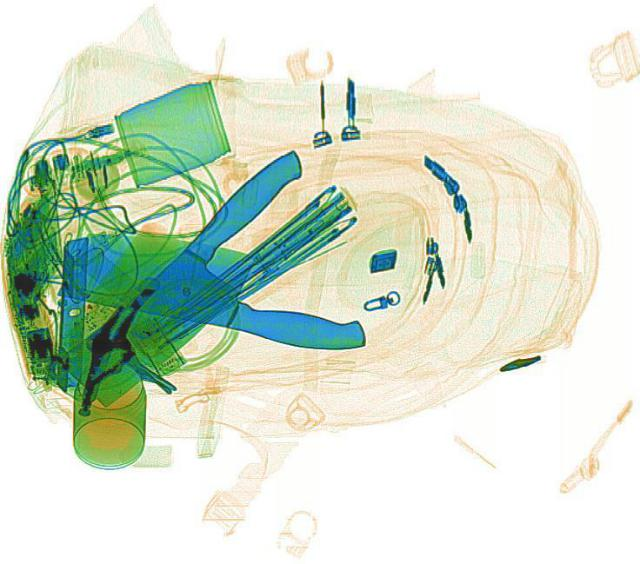Knife: (40, 144, 354, 408), (53, 217, 383, 357)
